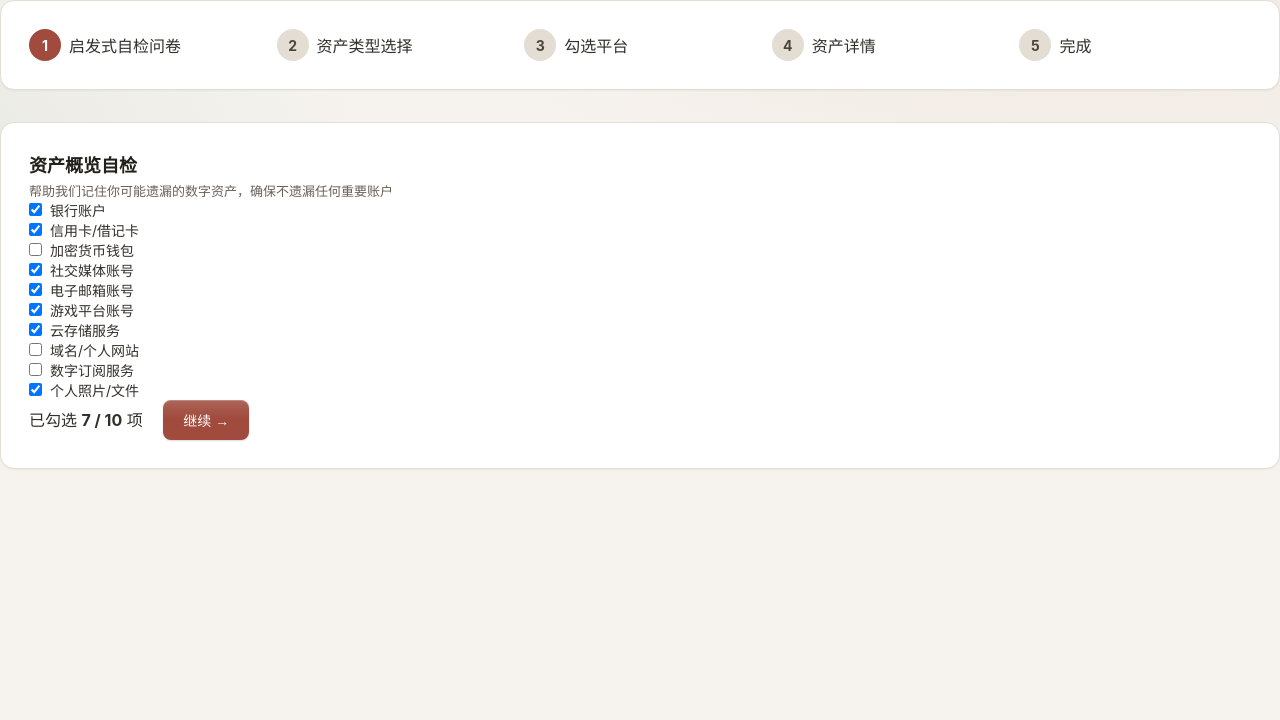
Scenario: 类别选择与平台过滤 › 未选类别时按「全部平台数」显示，且下一步禁用
The width and height of the screenshot is (1280, 720).
Click the button "继续 →" at (206, 420), box [163, 400, 249, 440]
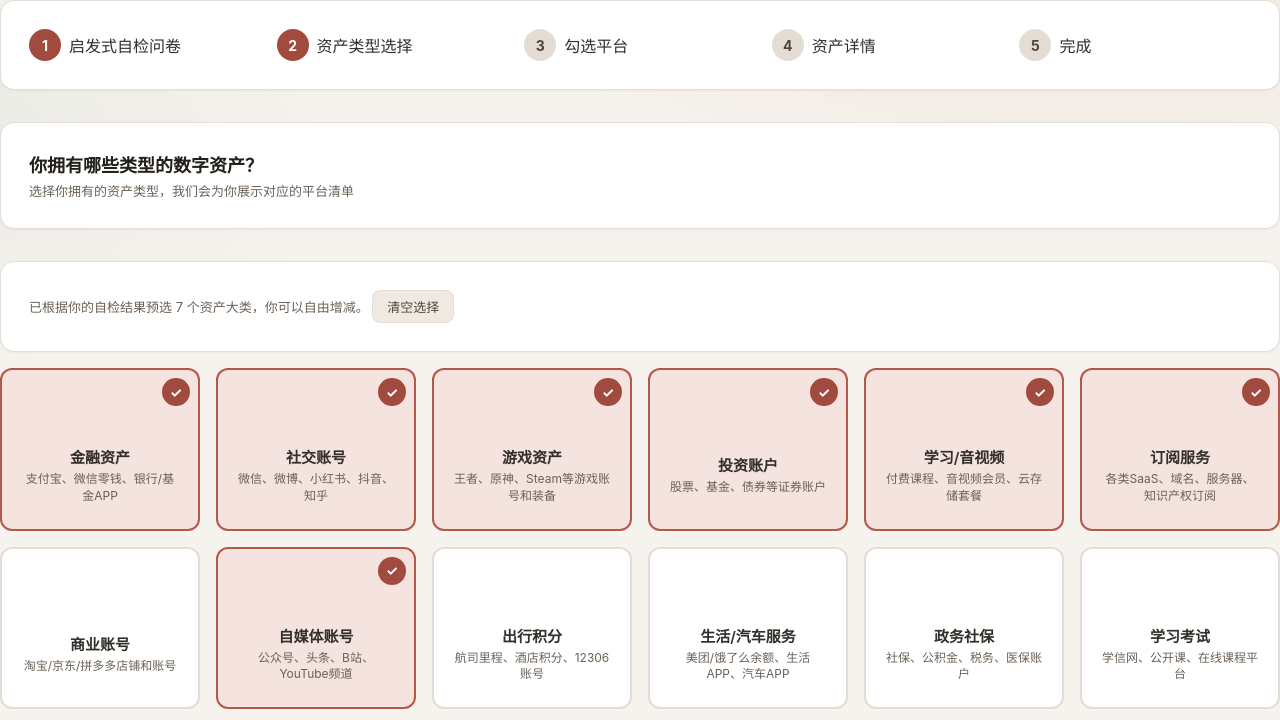
Click the button "清空选择" at (413, 306), box [372, 290, 454, 323]
(page scrolled)
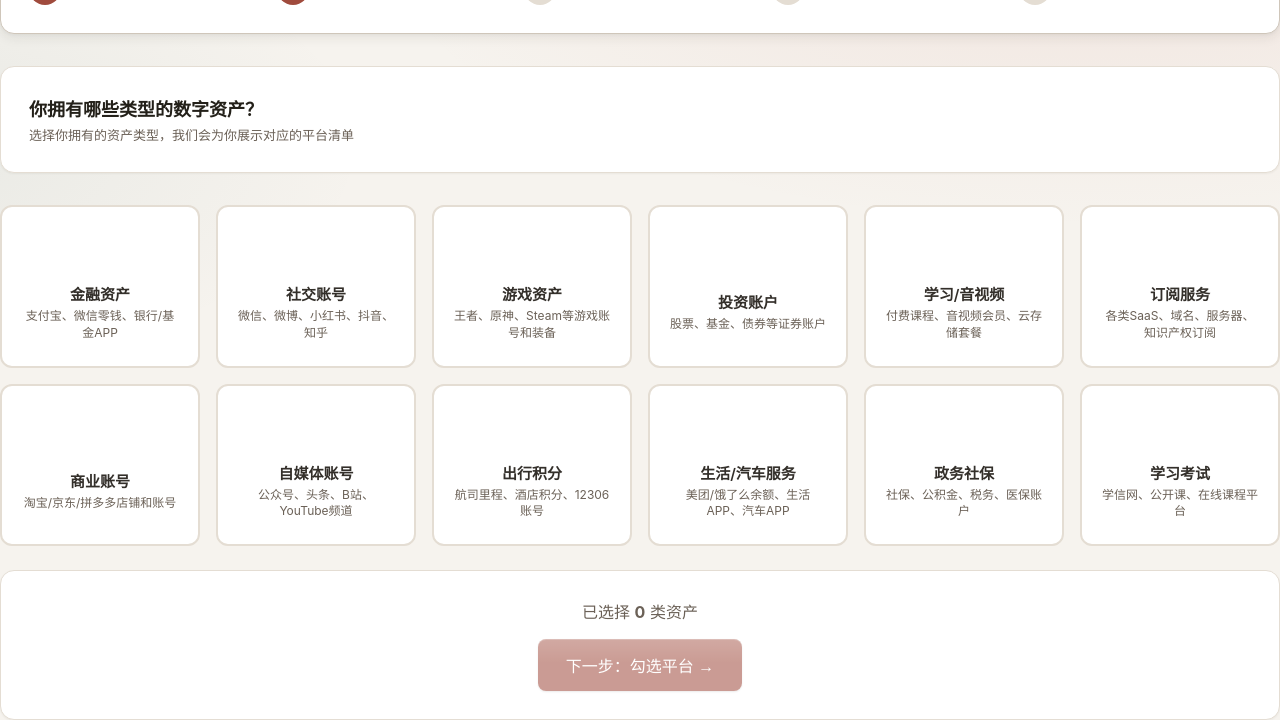
expect the button "下一步：勾选平台 →" is disabled: met, box [538, 639, 742, 691]
expect the text "已选择 0 类资产" is shown: met, box [582, 602, 698, 622]
